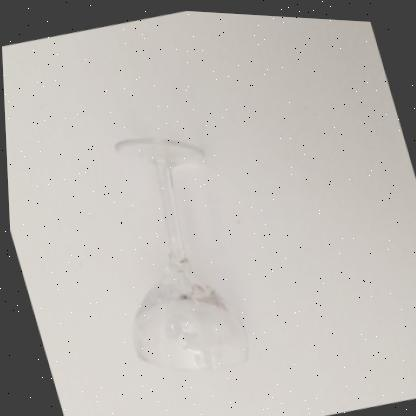Glass: (114, 137, 245, 368)
